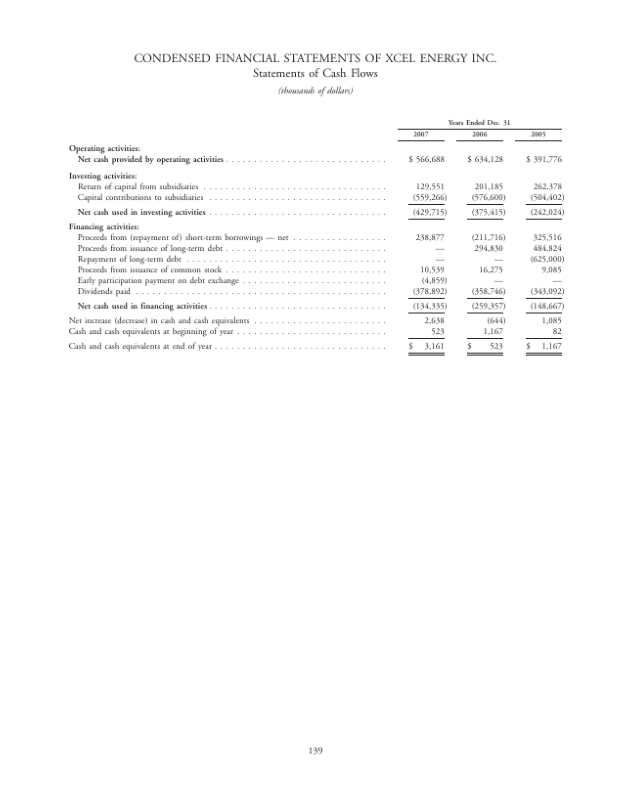table: (389, 116, 569, 367)
